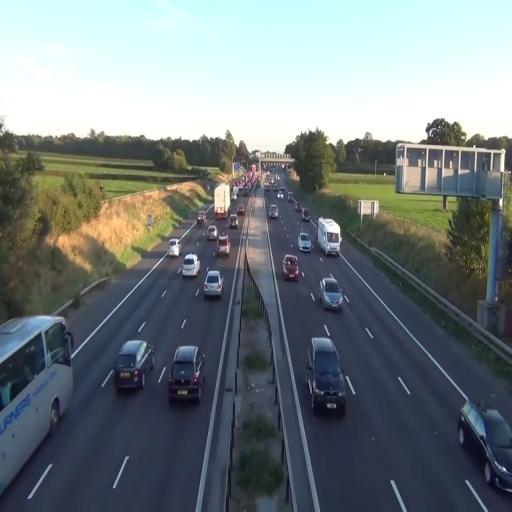vehicle: (0, 314, 74, 499), (458, 400, 512, 494), (305, 336, 347, 415), (168, 344, 206, 403), (114, 339, 154, 391), (316, 217, 342, 260), (316, 217, 342, 257), (320, 276, 342, 311), (203, 270, 223, 300), (214, 184, 230, 218), (180, 254, 200, 279), (282, 254, 300, 281), (216, 235, 230, 257), (298, 233, 312, 252), (268, 202, 280, 220), (168, 240, 180, 258), (206, 225, 218, 241)
